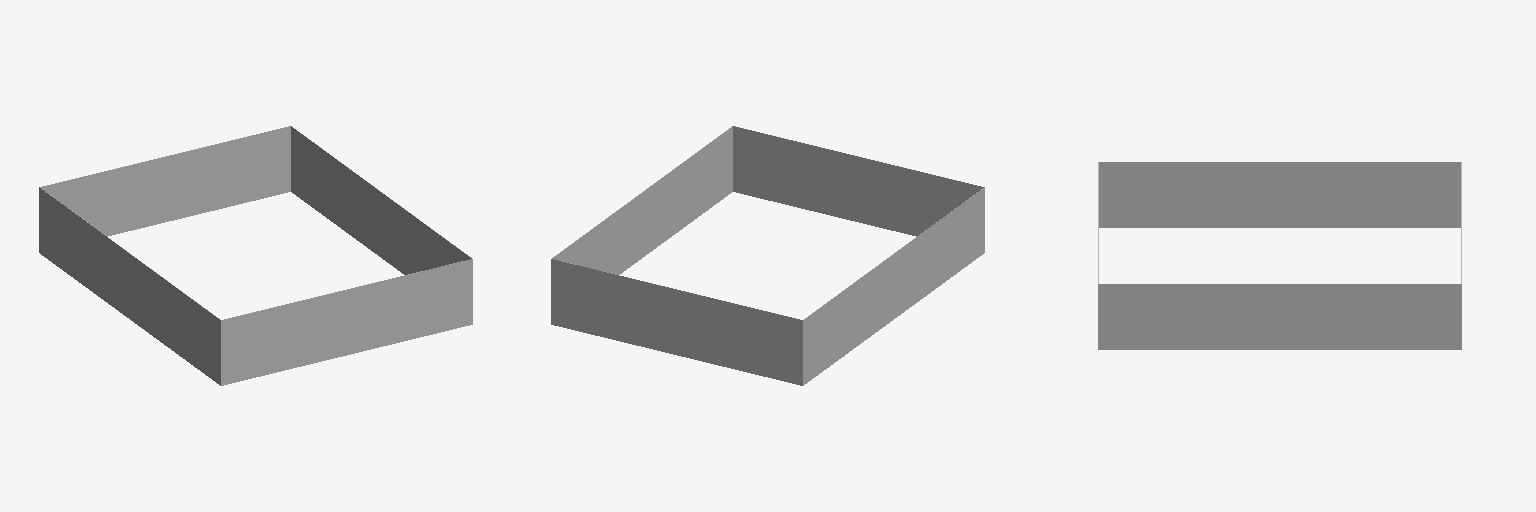
File: CT Sim Room_Wall_B_20.obj
3 renders of one model, left to right at view 1: azimuth 30°, elevation 25°; view 2: azimuth 150°, elevation 25°; view 3: azimuth 270°, elevation 25°, orthographic.
Visible parts, largest first — view 1: WLWA_020; view 2: WLWA_020; view 3: WLWA_020.
Part boxes in pixels (left/top/right/bottom): WLWA_020: left=39, top=126, right=472, bottom=385; WLWA_020: left=551, top=126, right=984, bottom=385; WLWA_020: left=1098, top=162, right=1461, bottom=349.
Bounding box in the file's own units: 60 × 15 × 75.